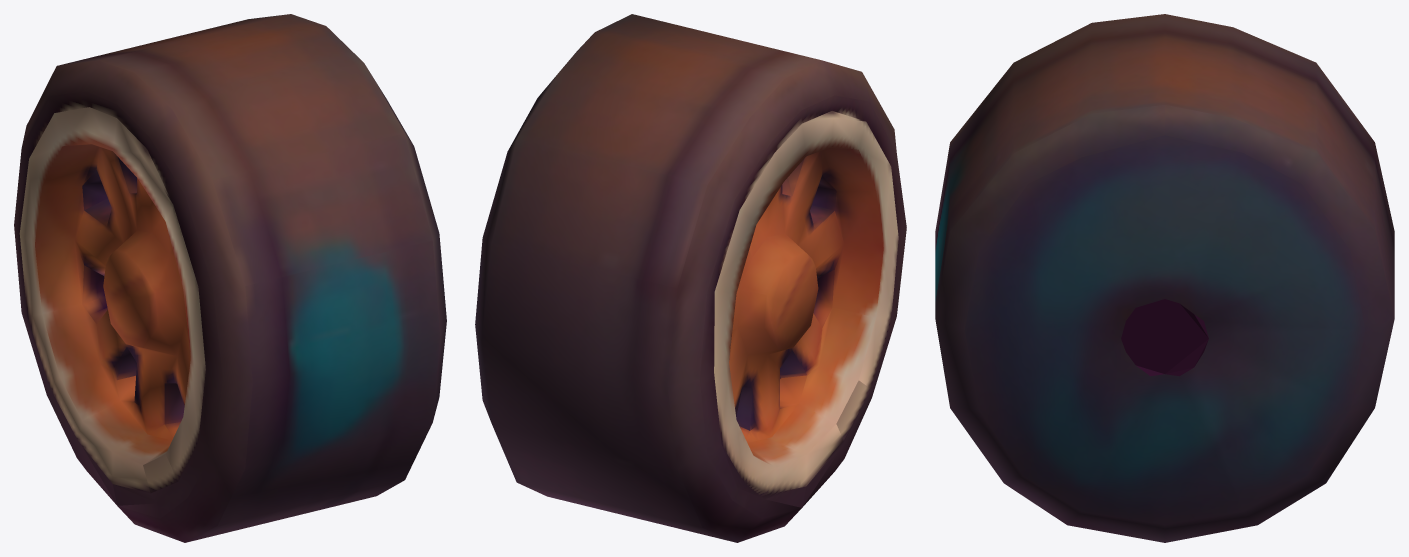
Rendered from wheel_front.glb.
The picture shows the model from 3 angles, left to right: view 1: azimuth 30°, elevation 25°; view 2: azimuth 150°, elevation 25°; view 3: azimuth 270°, elevation 25°; orthographic projection. The views are drawn at different scales.
Visible parts, largest first — view 1: wheel_front; view 2: wheel_front; view 3: wheel_front.
Part boxes in pixels (bbox=[...]): wheel_front: bbox=[14, 14, 446, 542]; wheel_front: bbox=[475, 14, 906, 542]; wheel_front: bbox=[935, 14, 1394, 542].
Bounding box in the file's own units: 0.1057 × 0.1937 × 0.184.
1 material, 1 textured.
